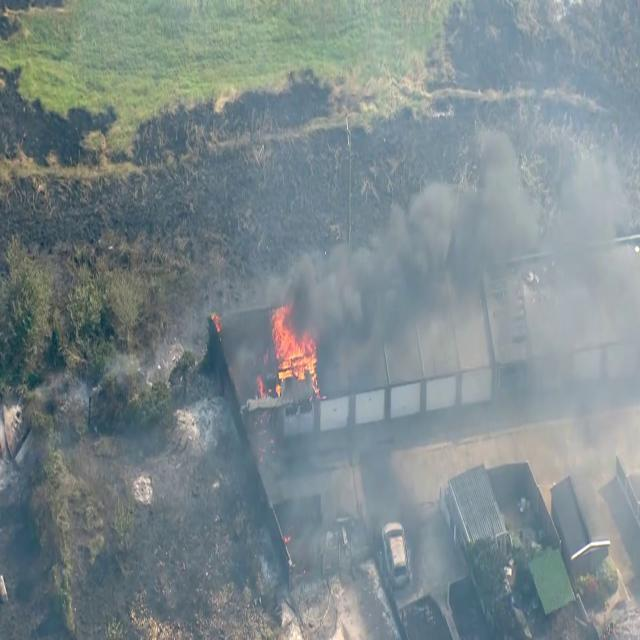Fire: (273, 310, 320, 398)
Smoke: (420, 177, 523, 313), (323, 253, 419, 356)
